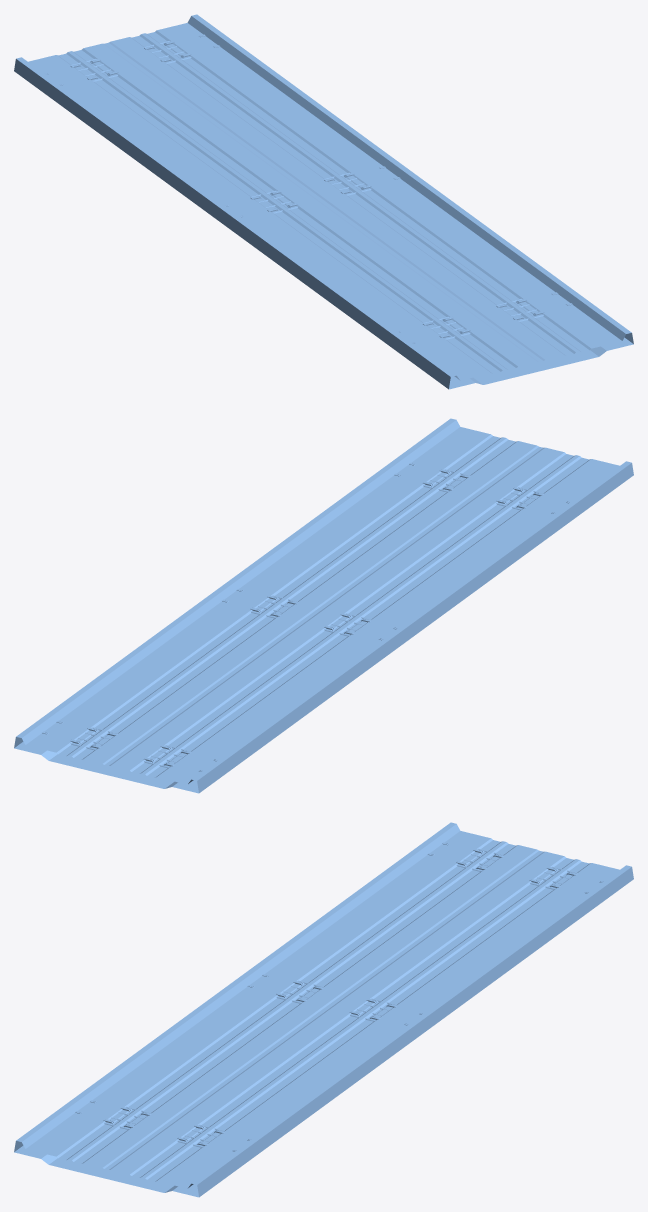
File: Race-Circuit_02.FBX
3 renders of one model, top to bottom at view 1: azimuth 30°, elevation 25°; view 2: azimuth 150°, elevation 25°; view 3: azimuth 330°, elevation 25°, orthographic.
Parts seen in each view (by area): view 1: Race-Circuit_02; view 2: Race-Circuit_02; view 3: Race-Circuit_02.
Part boxes in pixels (x1,y1,x2,y2): Race-Circuit_02: (14, 14, 633, 389); Race-Circuit_02: (14, 418, 633, 793); Race-Circuit_02: (14, 822, 633, 1197).
Size of the model in its own units: 961 by 80 by 3911.
